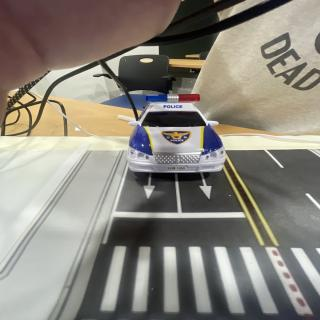Police_car: (127, 94, 226, 173)
